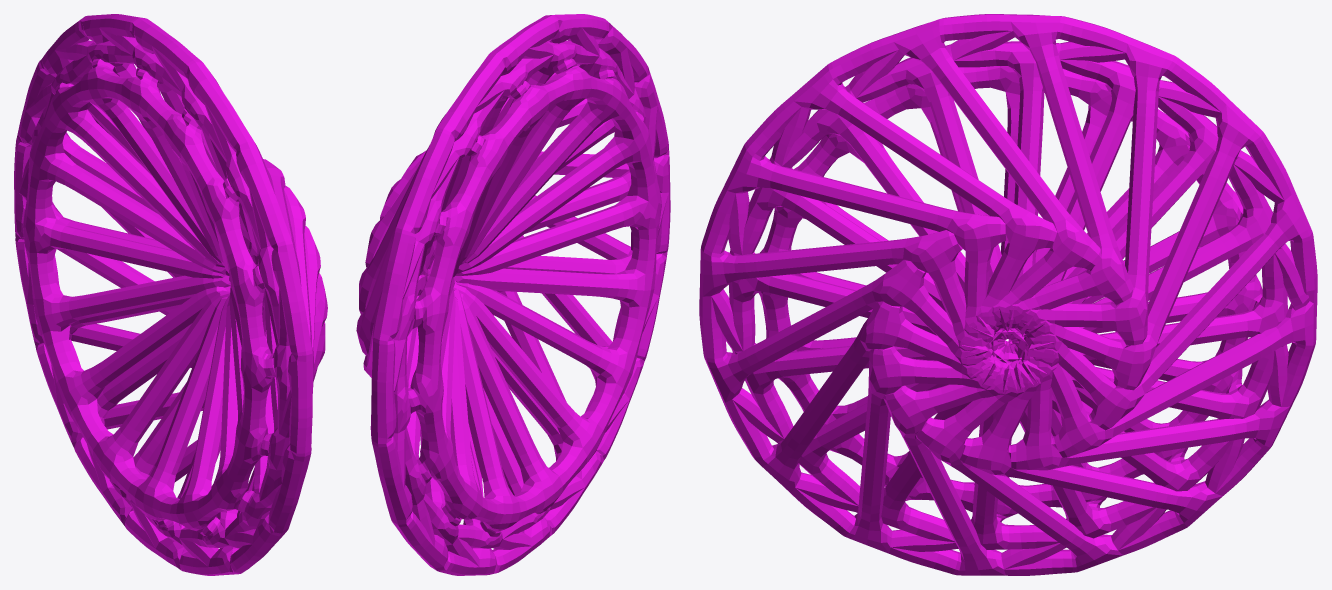
File: portal.glb
3 views of the same model, side by side, from view 1: azimuth 30°, elevation 25°; view 2: azimuth 150°, elevation 25°; view 3: azimuth 270°, elevation 25° (orthographic). The views are drawn at different scales.
Parts seen in each view (by area): view 1: Vert; view 2: Vert; view 3: Vert.
Boxes of the visible parts, bbox=[...] form: Vert: bbox=[14, 14, 327, 575]; Vert: bbox=[356, 14, 670, 575]; Vert: bbox=[699, 14, 1317, 575].
Size of the model in its own units: 3.09 by 11.61 by 11.61.
